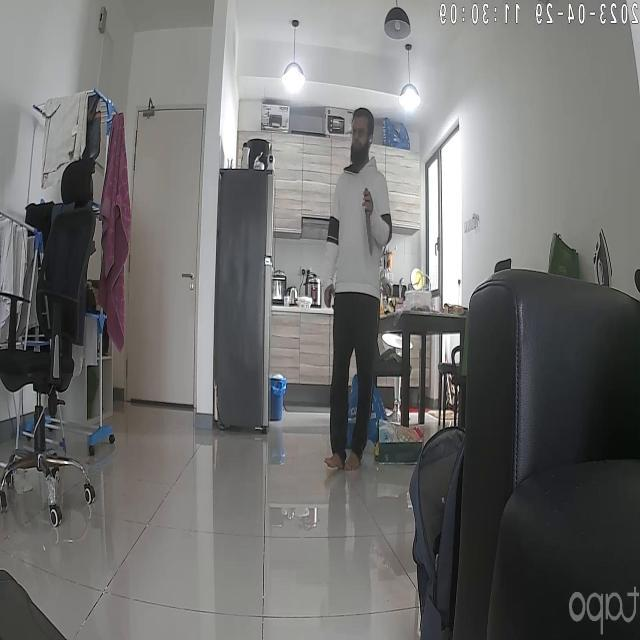Knife: (356, 188, 382, 260)
